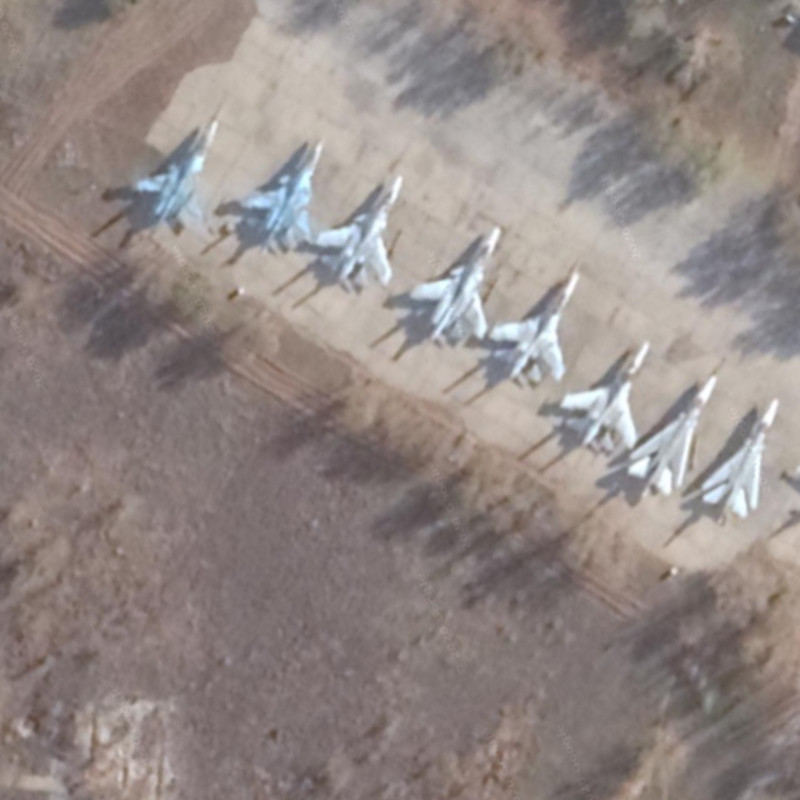A1: (556, 324, 655, 469), (486, 258, 581, 382)
A19: (132, 96, 231, 245), (237, 133, 331, 275), (317, 165, 409, 305), (402, 210, 501, 337)
A20: (631, 366, 720, 495), (700, 392, 780, 531)
